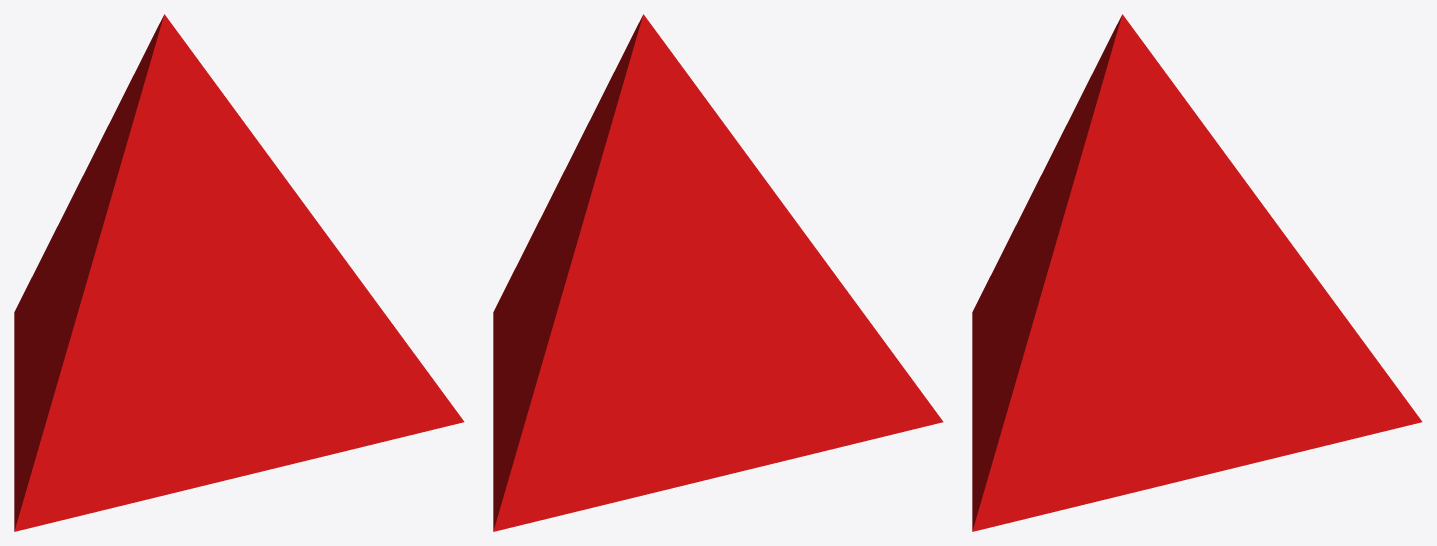
The model's file is triangle.dae.
3 renders of one model, left to right at view 1: azimuth 30°, elevation 25°; view 2: azimuth 150°, elevation 25°; view 3: azimuth 270°, elevation 25°, orthographic.
Visible parts, largest first — view 1: mesh3; view 2: mesh3; view 3: mesh3.
Part boxes in pixels (x1=…): mesh3: x1=14, y1=14, x2=464, y2=531; mesh3: x1=493, y1=14, x2=943, y2=531; mesh3: x1=972, y1=14, x2=1422, y2=531.
Size of the model in its own units: 0.9999 by 0.8658 by 0.8658.
